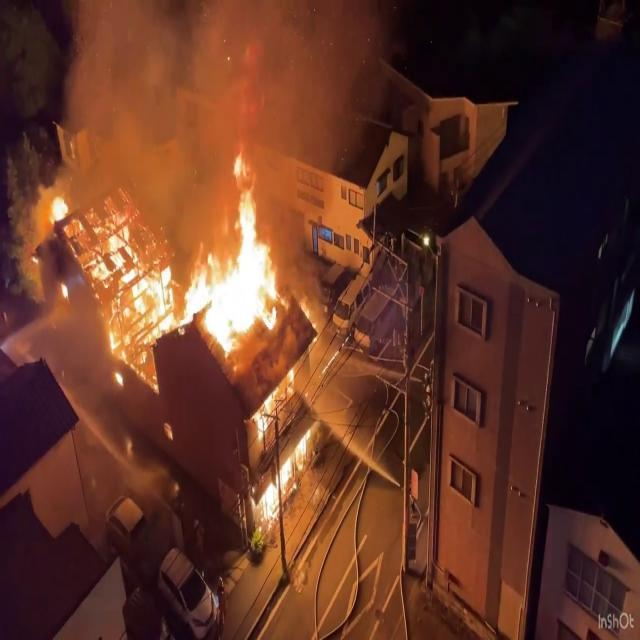Fire: (43, 152, 294, 364)
Smoke: (43, 0, 362, 236)
